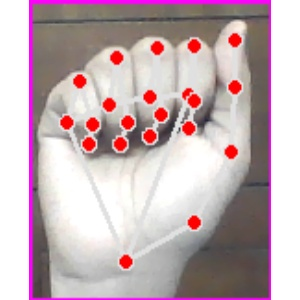A: (29, 2, 271, 300)
